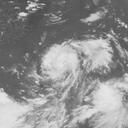cyclone: (39, 40, 114, 105)
